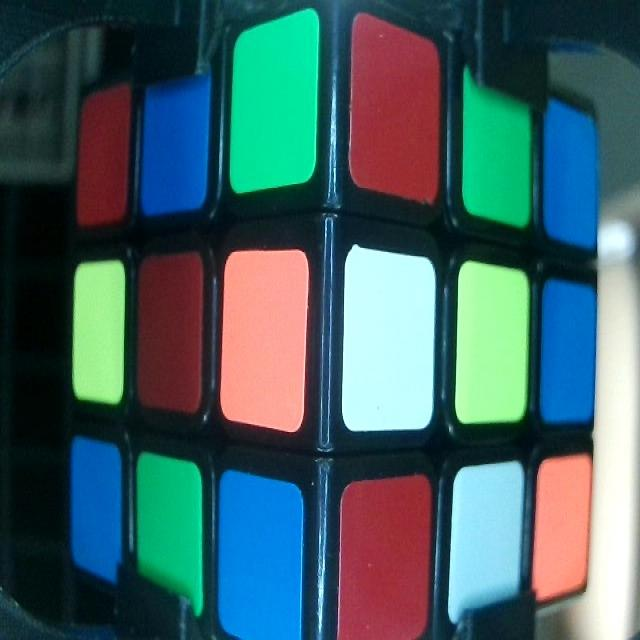b: (220, 488, 302, 637), (547, 108, 596, 235), (145, 91, 205, 188), (547, 288, 594, 409), (72, 452, 120, 564)
g: (235, 48, 312, 175), (464, 100, 529, 212), (138, 477, 200, 593)
o: (226, 257, 301, 416), (538, 470, 586, 578)
r: (354, 46, 437, 182), (342, 501, 430, 626), (140, 265, 201, 393), (80, 101, 128, 210)
w: (348, 271, 432, 410), (457, 484, 515, 590)
y: (460, 276, 526, 414), (77, 274, 119, 388)
